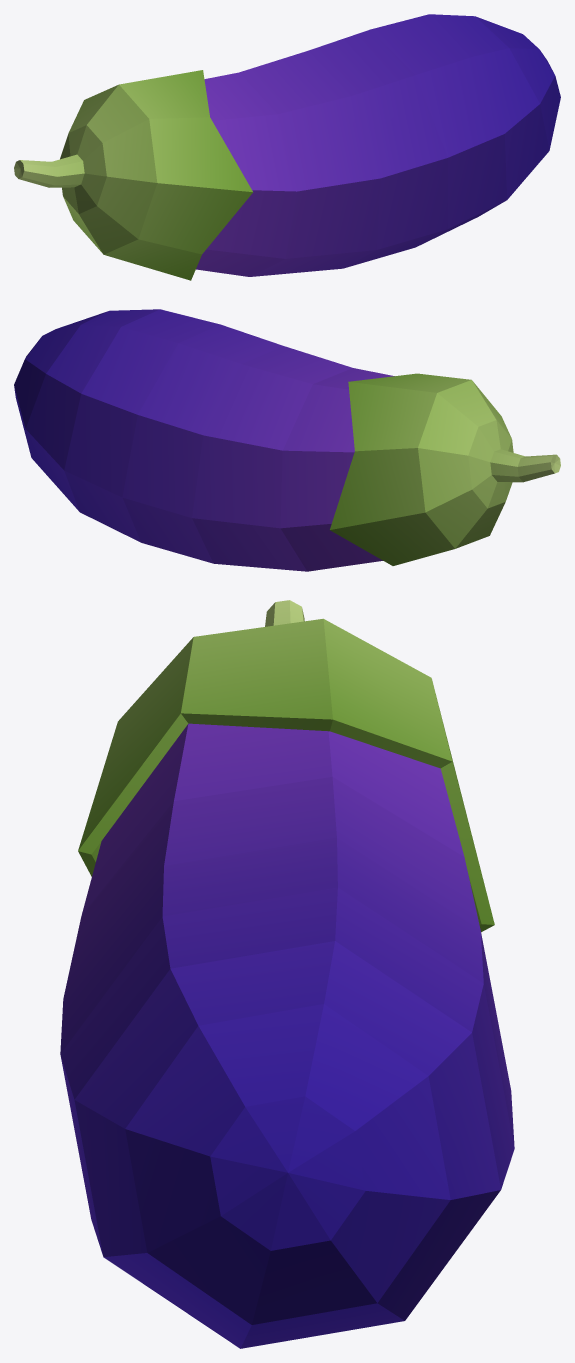
Rendered from eggplant.glb.
3 renders of one model, top to bottom at view 1: azimuth 30°, elevation 25°; view 2: azimuth 150°, elevation 25°; view 3: azimuth 270°, elevation 25°, orthographic. The views are drawn at different scales.
Visible parts, largest first — view 1: eggplant; view 2: eggplant; view 3: eggplant.
Boxes of the visible parts, bbox=[...] form: eggplant: bbox=[14, 14, 560, 280]; eggplant: bbox=[14, 309, 560, 571]; eggplant: bbox=[60, 600, 514, 1348].
Bounding box in the file's own units: 0.6134 × 0.2399 × 0.2267.
1 material, 1 textured.
